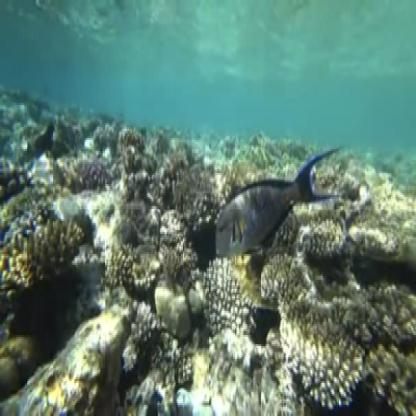Acanthuridae -Surgeonfishes-: (215, 145, 344, 259)
